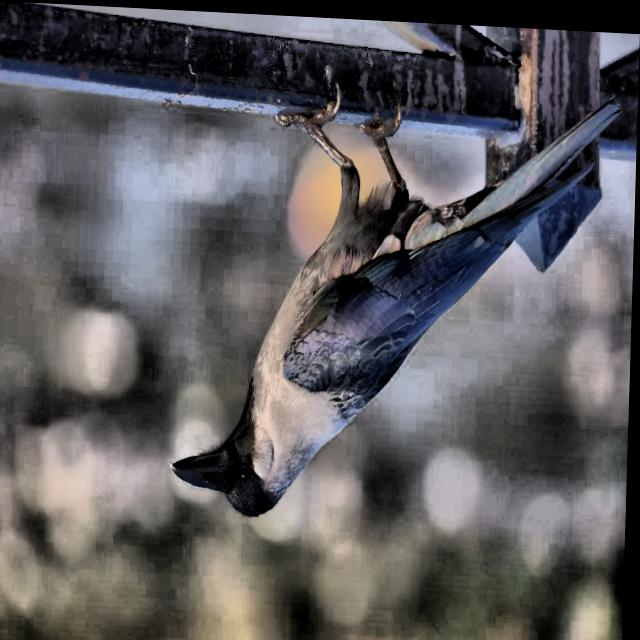crow: (163, 73, 624, 530)
